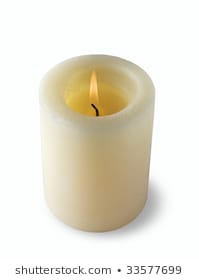Fire: (88, 67, 102, 113)
